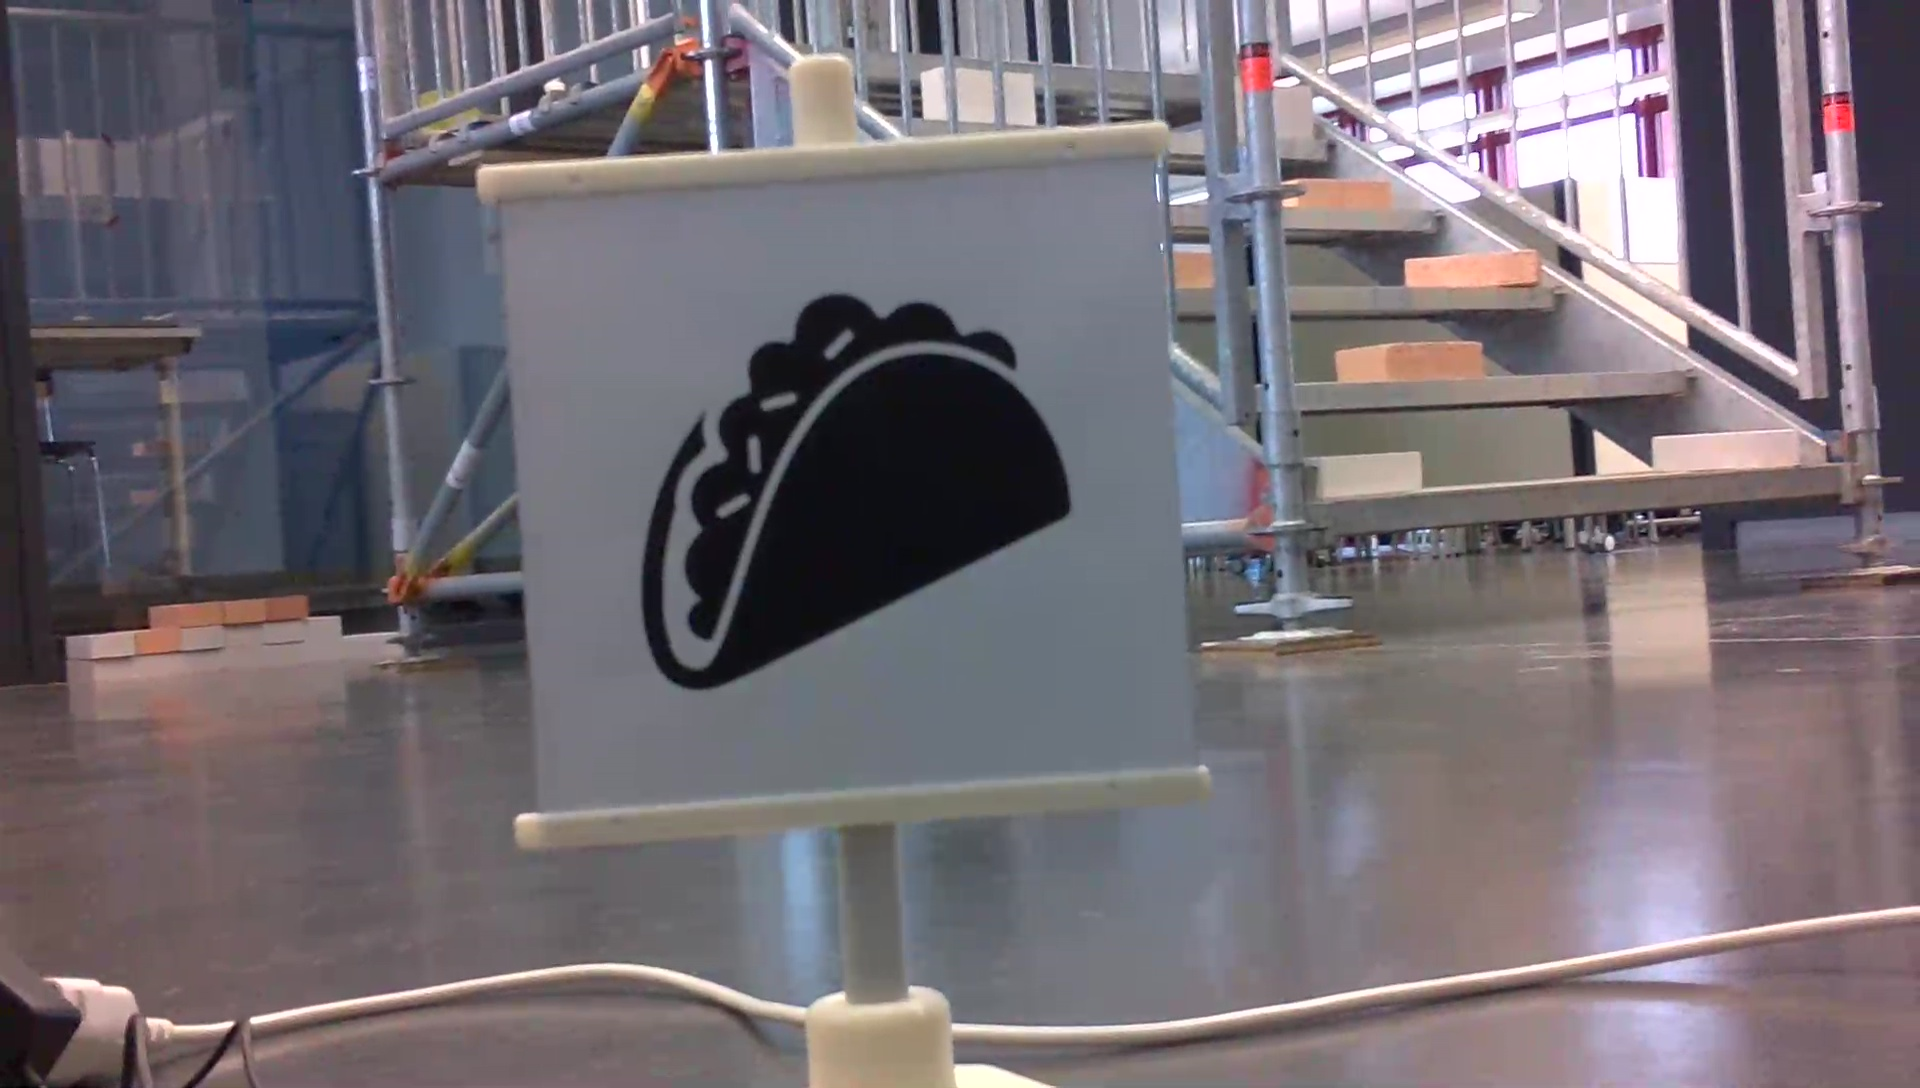brick: (1658, 430, 1795, 469), (1336, 346, 1480, 380), (1317, 450, 1420, 491), (1404, 253, 1538, 284), (1288, 179, 1389, 210), (1275, 87, 1309, 133)
edge: (1312, 466, 1841, 535), (1298, 367, 1698, 408)
taco: (620, 284, 1085, 702)
